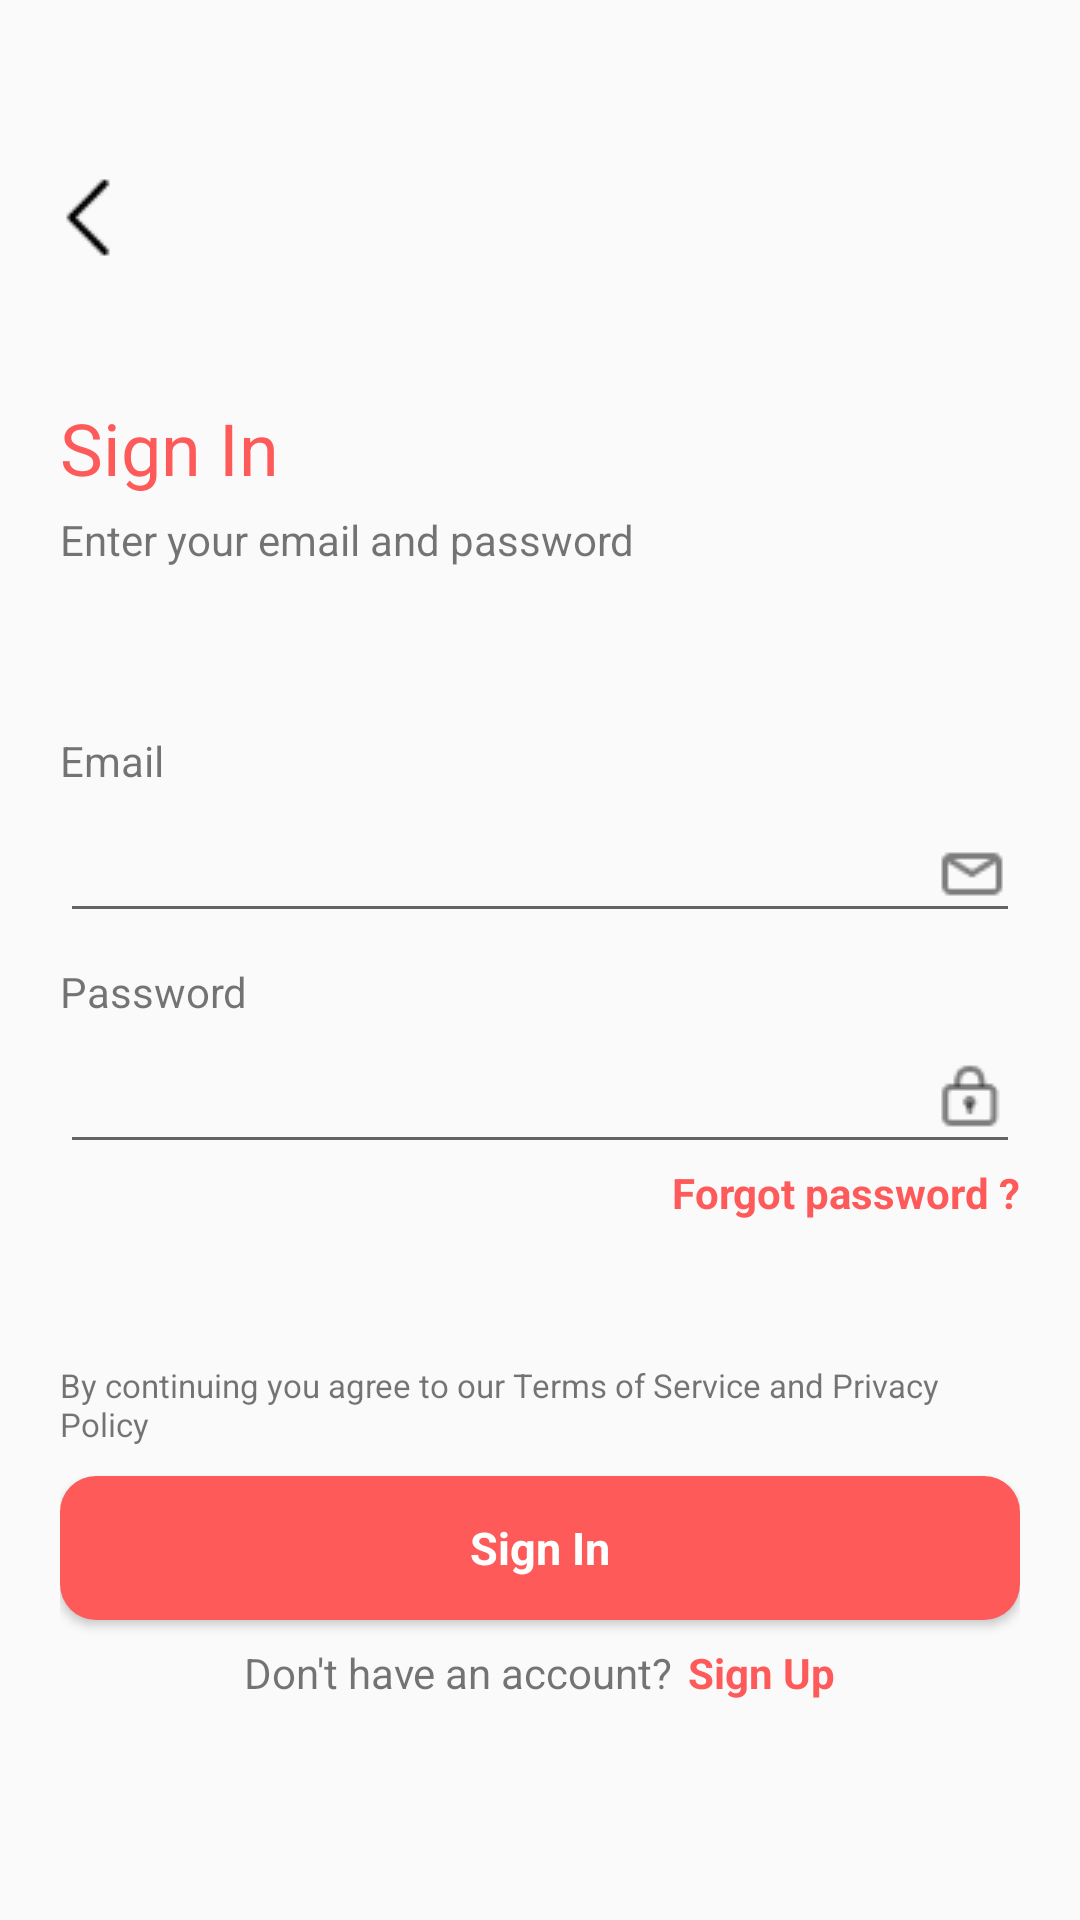

Named icons in this screenshot (1080x1920) and their centers, (x=x, y=y):
back: (x=88, y=217)
